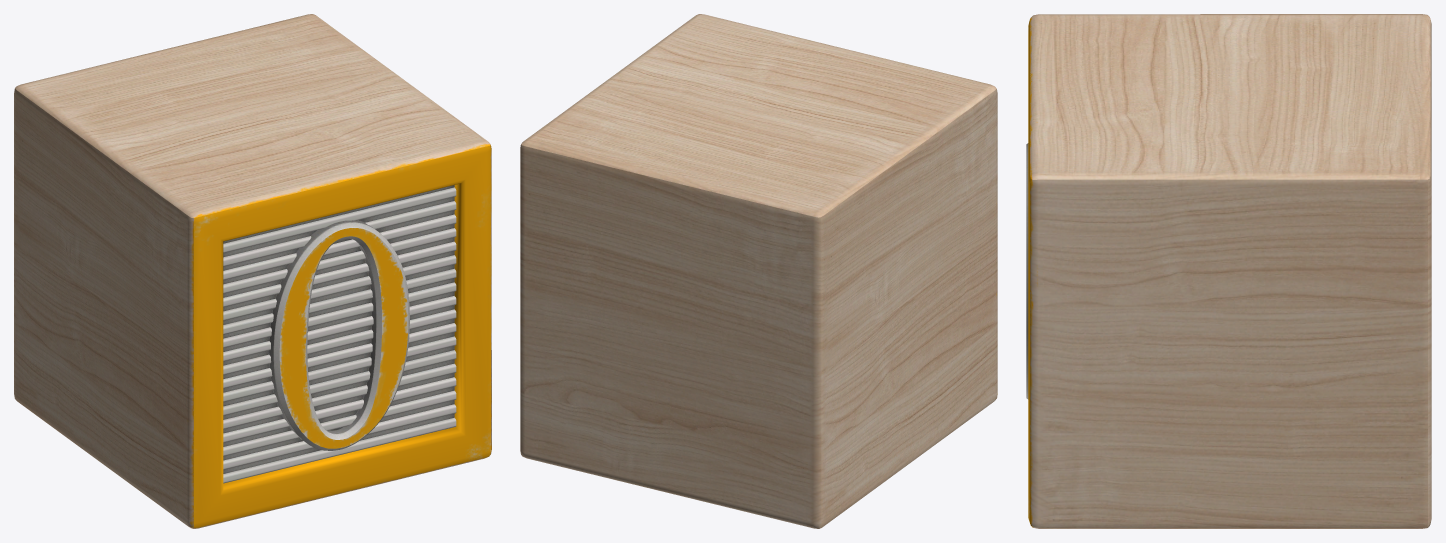
File: Letter O.fbx
3 renders of one model, left to right at view 1: azimuth 30°, elevation 25°; view 2: azimuth 150°, elevation 25°; view 3: azimuth 270°, elevation 25°, orthographic. The views are drawn at different scales.
Parts seen in each view (by area): view 1: node_id74; view 2: node_id74; view 3: node_id74.
Part boxes in pixels (x1,y1,x2,y2): node_id74: (14, 14, 491, 528); node_id74: (520, 14, 997, 528); node_id74: (1026, 14, 1431, 528).
Size of the model in its own units: 0.5119 by 0.512 by 0.53.
1 material, 1 textured.
